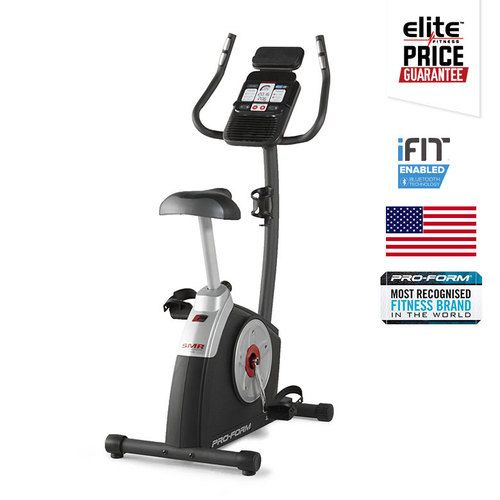gym_bike: (87, 28, 347, 487)
